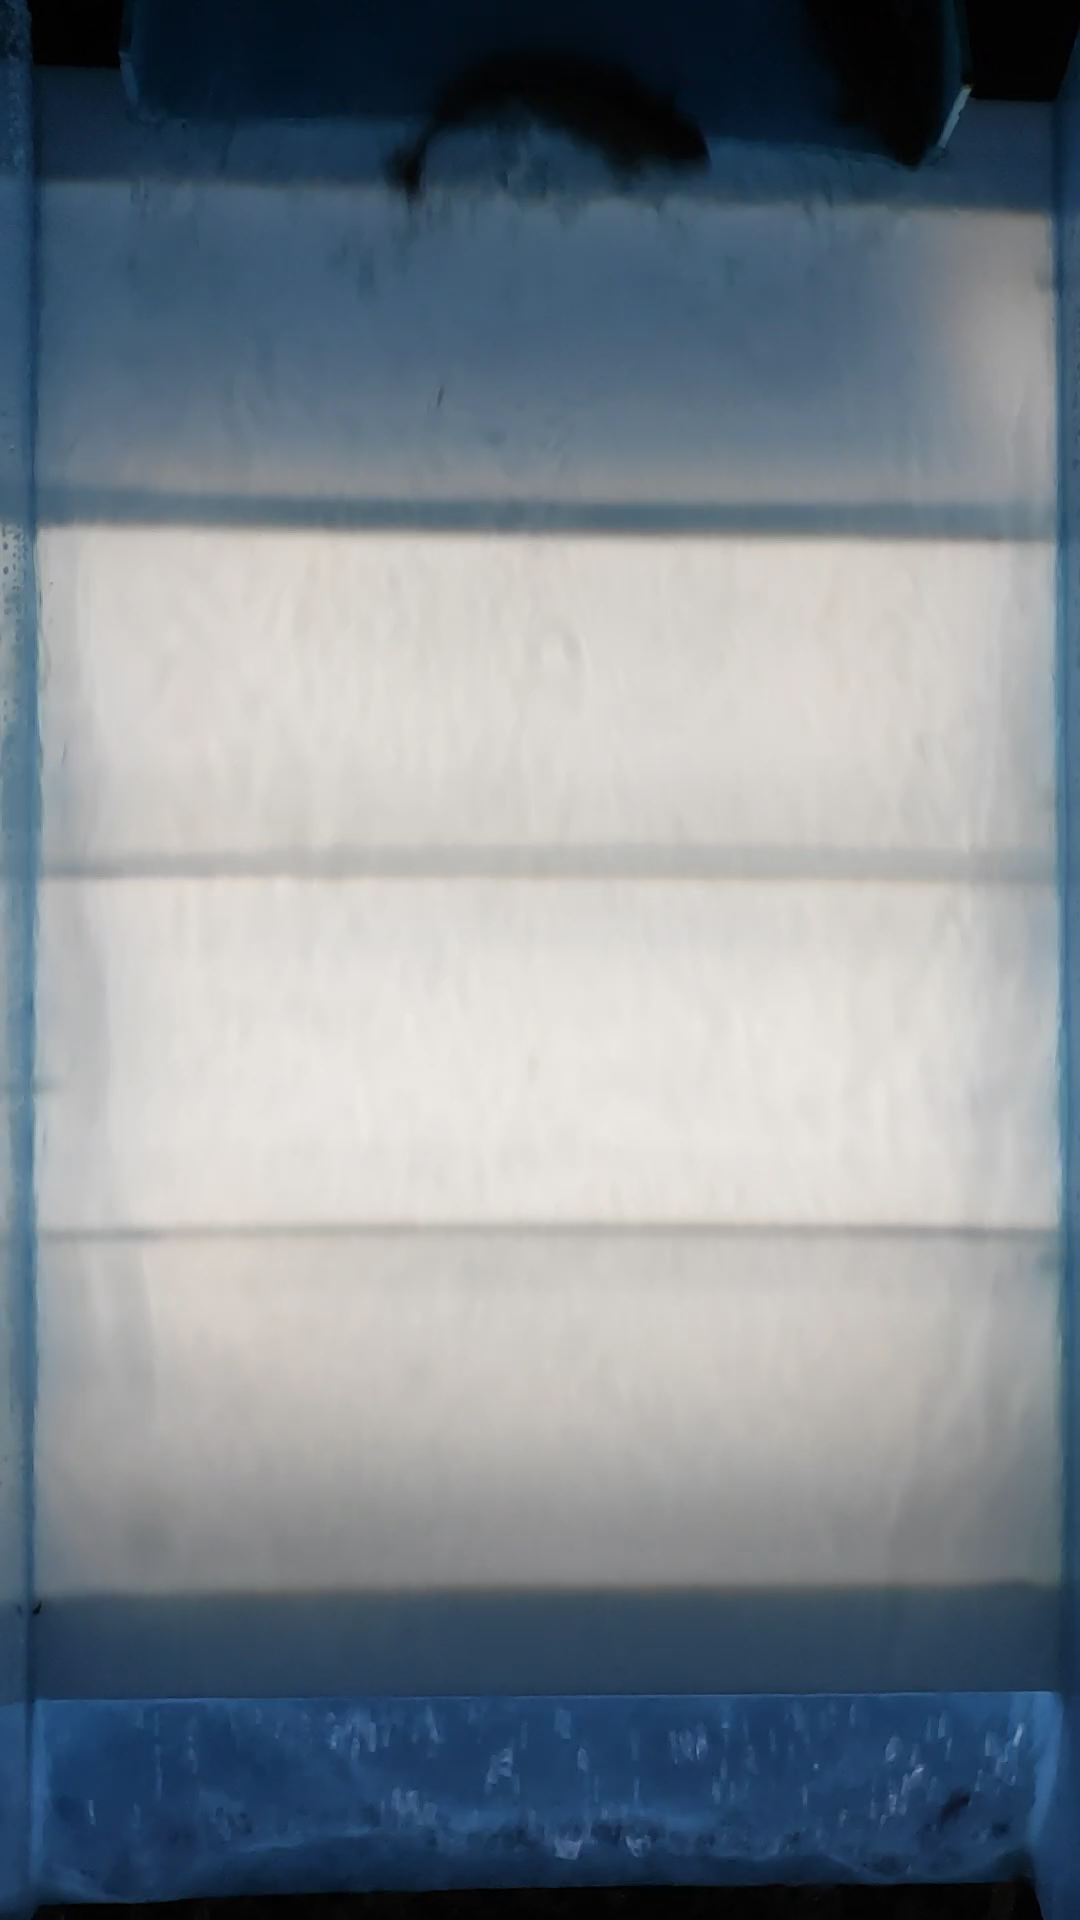fish: (386, 47, 716, 212)
